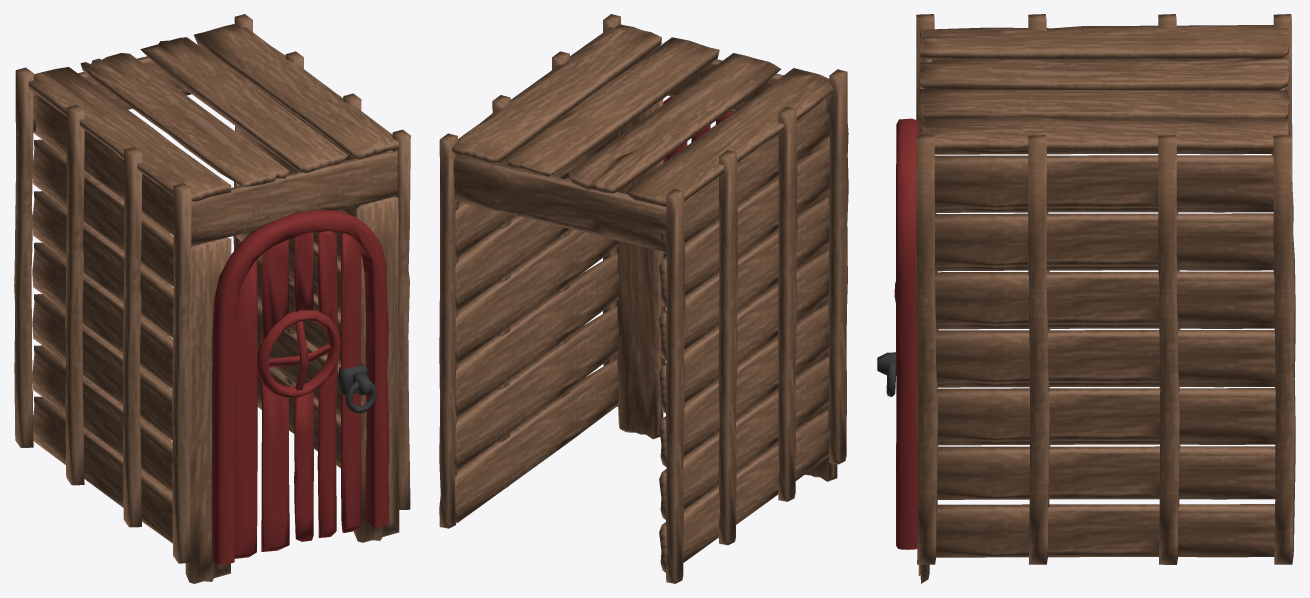
The model's file is SM_front_wood_door_exp.fbx.
3 views of the same model, side by side, from view 1: azimuth 30°, elevation 25°; view 2: azimuth 150°, elevation 25°; view 3: azimuth 270°, elevation 25° (orthographic). The views are drawn at different scales.
Parts seen in each view (by area): view 1: front_wood_door_exp; view 2: front_wood_door_exp; view 3: front_wood_door_exp.
Part boxes in pixels (x1,y1,x2,y2): front_wood_door_exp: (14,14,410,583); front_wood_door_exp: (439,14,848,583); front_wood_door_exp: (877,14,1295,583).
Size of the model in its own units: 199 by 328 by 276.
